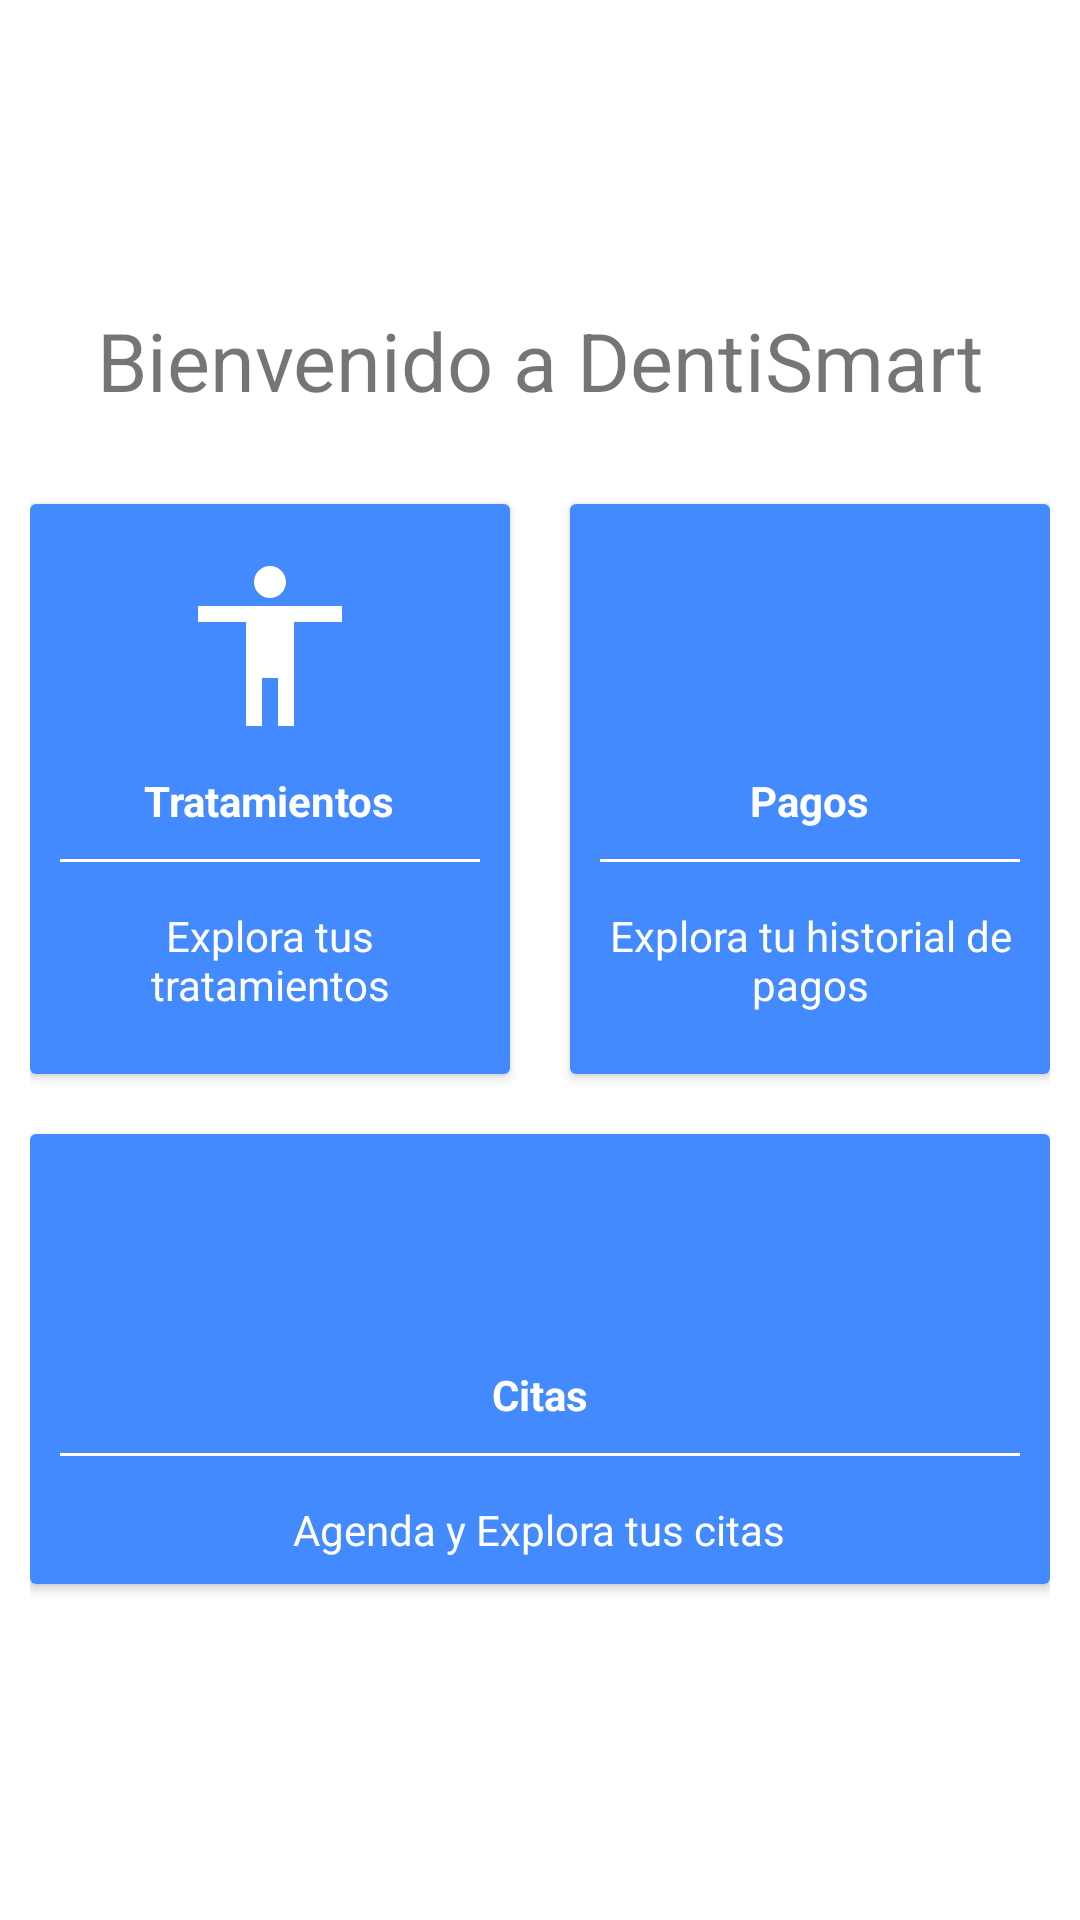

Screen size 1080 x 1920. Icon name, then its center in pixels as (x=x, y=y):
accessibility: (x=270, y=646)
